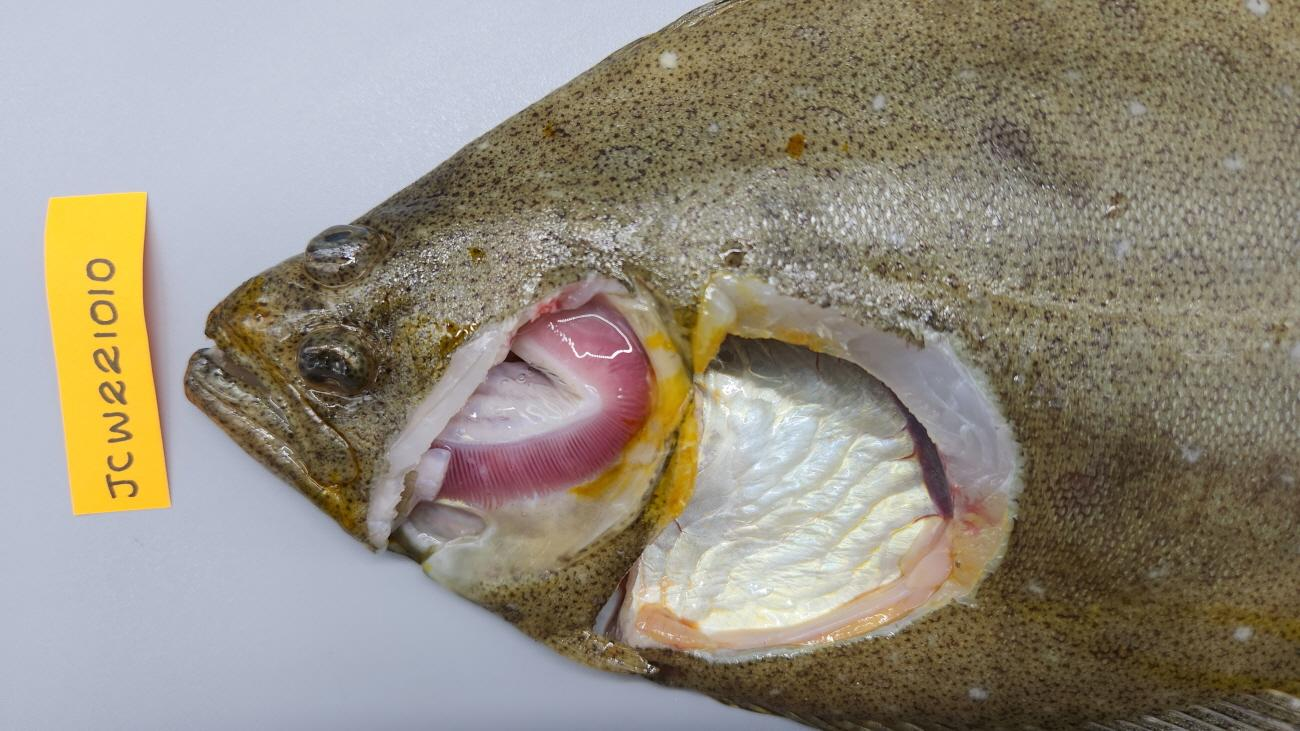POASN: (629, 334, 940, 636)
POREN: (636, 516, 954, 648)
